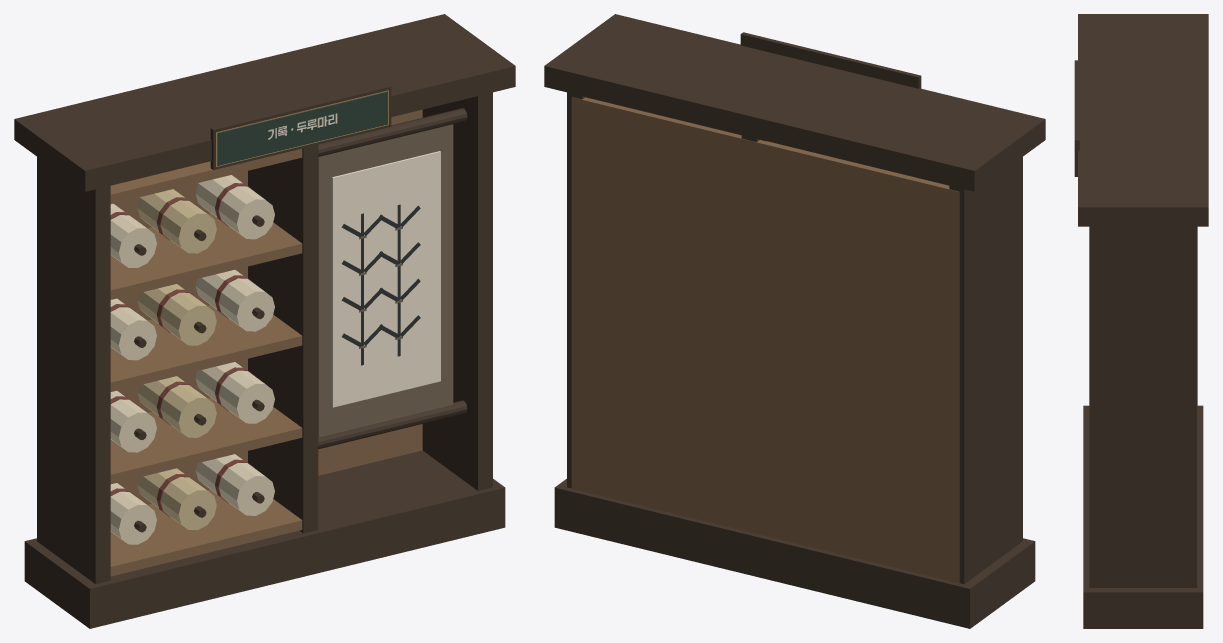
The model's file is 10_Scroll_Study_Cabinet.fbx.
3 views of the same model, side by side, from view 1: azimuth 30°, elevation 25°; view 2: azimuth 150°, elevation 25°; view 3: azimuth 270°, elevation 25° (orthographic). The views are drawn at different scales.
Visible parts, largest first — view 1: 10_Scroll_Study_Cabinet__Structure, 10_Scroll_Study_Cabinet__Hanging_Scroll, 10_Scroll_Study_Cabinet; view 2: 10_Scroll_Study_Cabinet__Structure; view 3: 10_Scroll_Study_Cabinet__Structure.
Part boxes in pixels (x1,y1,x2,y2): 10_Scroll_Study_Cabinet__Structure: (14,14,515,628); 10_Scroll_Study_Cabinet__Hanging_Scroll: (318,108,467,449); 10_Scroll_Study_Cabinet: (110,175,274,544); 10_Scroll_Study_Cabinet__Structure: (544,14,1045,628); 10_Scroll_Study_Cabinet__Structure: (1074,14,1208,628).
Bounding box in the file's own units: 259 × 272 × 76.1.
Materials: 1 (1 with a texture image).
